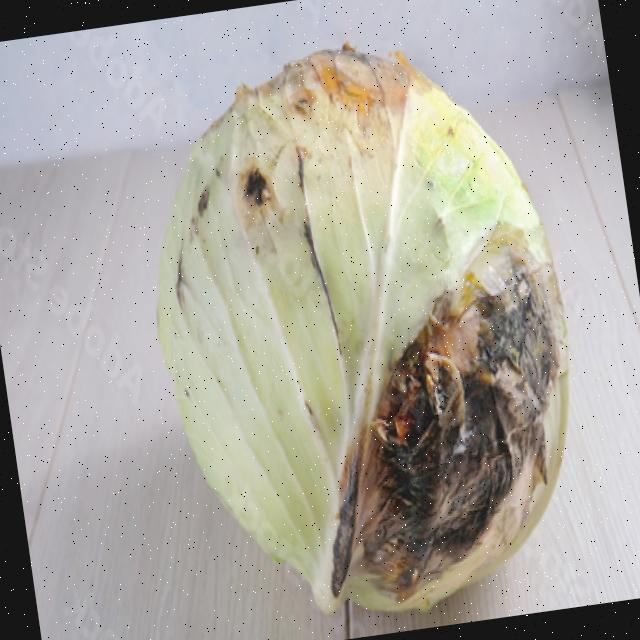rotten cabbage: (113, 12, 608, 640)
